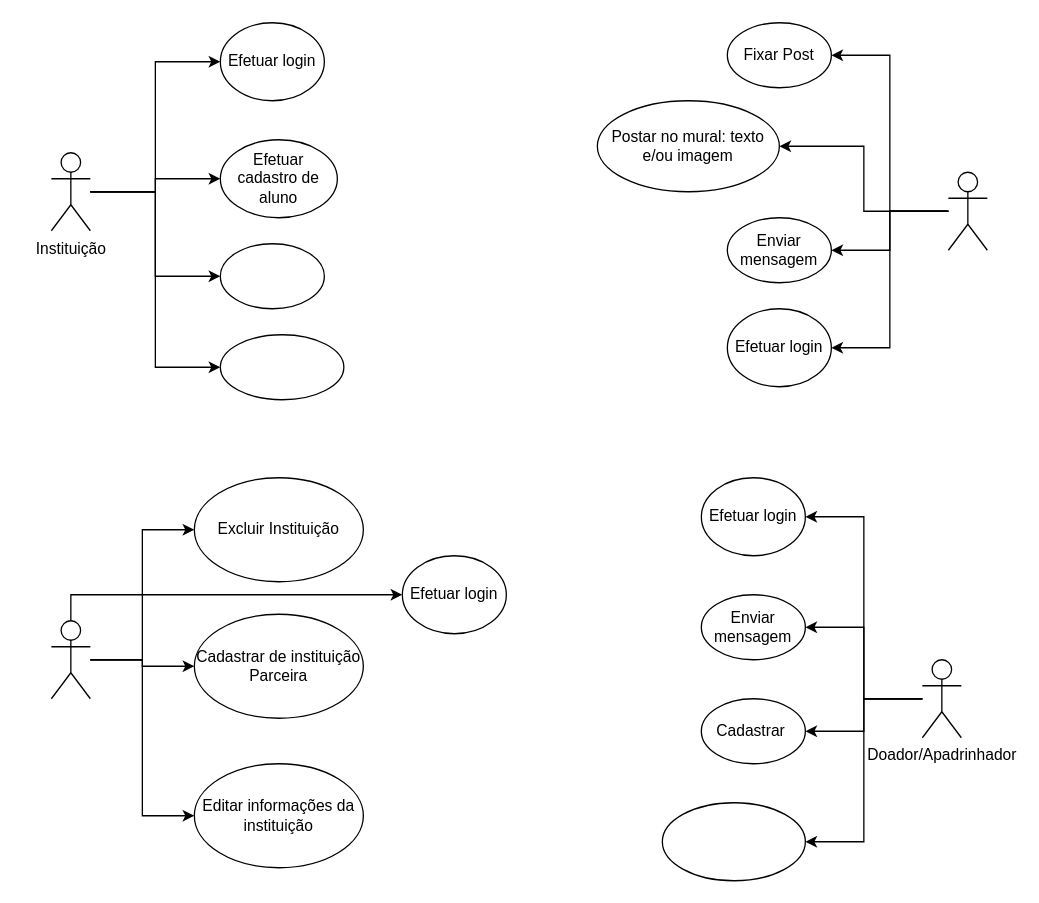
Some shapes in this 1039 by 903 pixel diagram are drawn without their labels. The centre of each missing label's shape, as x and y in pixels:
"Acessar Mural do afiliado" goes at point (733, 841).
"Administrador" goes at point (70, 659).
"Aluno" goes at point (967, 210).
"Editar informações do aluno" goes at point (281, 366).
"Excluir aluno" goes at point (271, 275).
